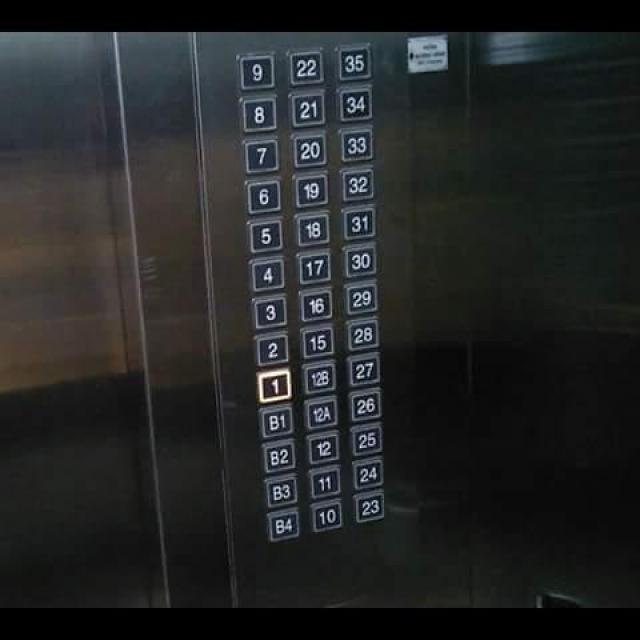1: (255, 367, 289, 401)
10: (308, 498, 341, 530)
11: (307, 466, 340, 498)
12: (305, 430, 339, 462)
12A: (303, 396, 336, 428)
12B: (300, 358, 335, 394)
15: (299, 322, 333, 358)
16: (296, 287, 331, 320)
17: (293, 248, 332, 284)
18: (293, 210, 332, 247)
19: (291, 171, 329, 208)
2: (253, 329, 288, 364)
20: (289, 132, 328, 169)
21: (287, 89, 325, 127)
22: (285, 48, 324, 85)
23: (352, 489, 385, 522)
24: (349, 456, 383, 488)
25: (349, 422, 383, 454)
26: (348, 386, 381, 418)
27: (347, 352, 380, 384)
28: (345, 314, 380, 350)
29: (343, 280, 377, 315)
3: (250, 294, 286, 330)
30: (342, 241, 378, 275)
31: (340, 204, 376, 237)
32: (338, 167, 374, 201)
33: (338, 127, 373, 161)
34: (338, 85, 373, 120)
35: (336, 41, 371, 79)
4: (248, 256, 284, 292)
5: (245, 216, 283, 252)
6: (244, 178, 281, 214)
7: (241, 136, 279, 172)
8: (239, 95, 277, 132)
9: (236, 52, 275, 89)
B1: (259, 401, 293, 436)
B2: (261, 437, 296, 472)
B3: (263, 473, 297, 508)
B4: (264, 507, 299, 541)
